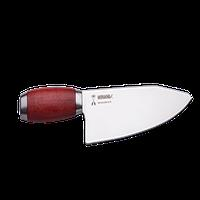knife: (7, 64, 196, 160)
